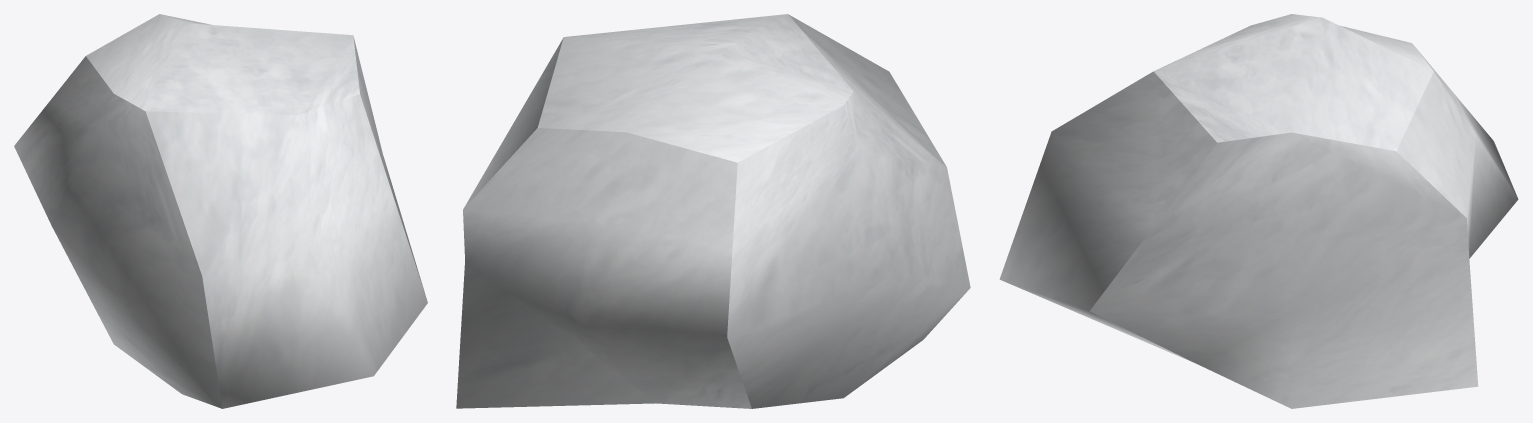
Rendered from rock.fbx.
The picture shows the model from 3 angles, left to right: view 1: azimuth 30°, elevation 25°; view 2: azimuth 150°, elevation 25°; view 3: azimuth 270°, elevation 25°; orthographic projection. The views are drawn at different scales.
Parts seen in each view (by area): view 1: pCube1; view 2: pCube1; view 3: pCube1.
Part boxes in pixels (left/top/right/bottom): pCube1: left=14, top=14, right=427, bottom=408; pCube1: left=456, top=14, right=970, bottom=408; pCube1: left=999, top=14, right=1518, bottom=408.
Size of the model in its own units: 5.87 by 4.81 by 7.72.
